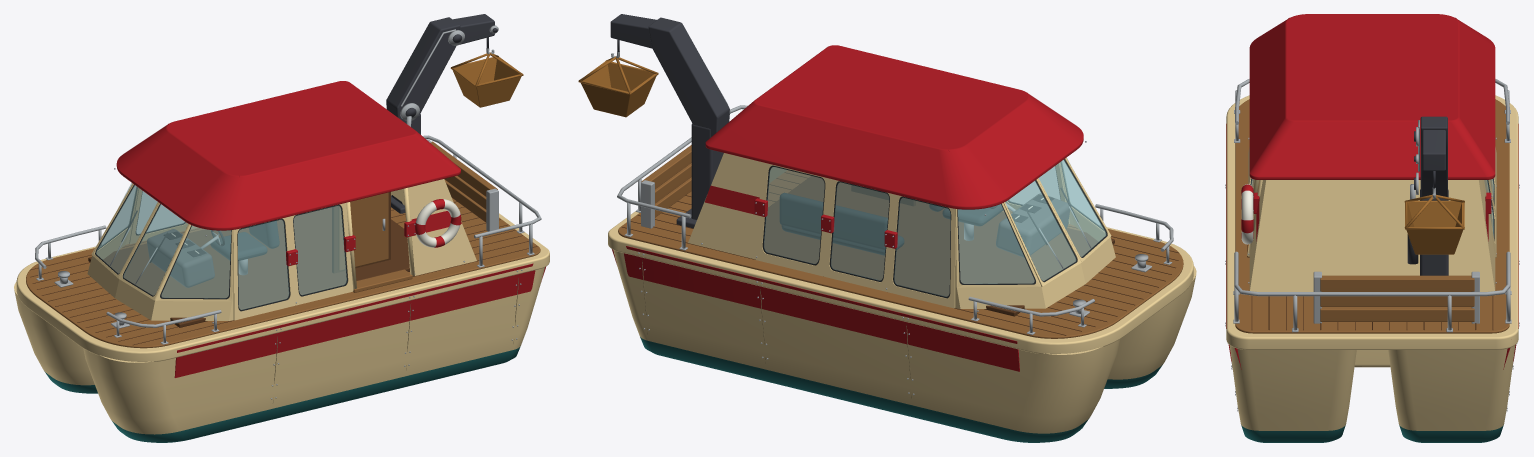
Rendered from boat-b-concept.glb.
The picture shows the model from 3 angles, left to right: view 1: azimuth 30°, elevation 25°; view 2: azimuth 150°, elevation 25°; view 3: azimuth 270°, elevation 25°; orthographic projection. The views are drawn at different scales.
Visible parts, largest first — view 1: red four-sided hip roof, port sculpted pontoon, inset teak deck, cabin floor, red upper hull belt, cream continuous deck coaming, forward side window transparent glass, rear side window transparent glass, panoramic windshield 0 transparent glass, starboard sculpted pontoon, crane broad articulated lifting arm, sloped aft cabin wall (+25 smaller); view 2: red four-sided hip roof, starboard sculpted pontoon, cabin floor, inset teak deck, red upper hull belt.001, cream continuous deck coaming, far cabin window transparent glass, forward side window transparent glass.001, rear side window transparent glass.001, crane broad articulated lifting arm, panoramic windshield 3 transparent glass, sloped aft cabin wall.001 (+25 smaller); view 3: red four-sided hip roof, aft cabin sloping bulkhead, port sculpted pontoon, starboard sculpted pontoon, inset teak deck, cream continuous deck coaming, stern cargo timber slat.002, open ochre work bucket, stern cargo timber slat, stern cargo timber slat.001, crane broad articulated lifting arm, crane horizontal upper jib (+12 smaller).
Part boxes in pixels (x1,y1,x2,y2): red four-sided hip roof: (116,81,460,227); port sculpted pontoon: (83,267,544,442); inset teak deck: (26,198,540,348); cabin floor: (88,207,409,327); red upper hull belt: (174,263,545,377); cream continuous deck coaming: (16,213,549,361); forward side window transparent glass: (238,220,289,309); rear side window transparent glass: (293,206,346,295); panoramic windshield 0 transparent glass: (161,225,231,298); starboard sculpted pontoon: (14,281,97,393); crane broad articulated lifting arm: (386,17,460,121); sloped aft cabin wall: (408,179,476,275); red four-sided hip roof: (705,45,1083,206); starboard sculpted pontoon: (613,250,1120,442); cabin floor: (764,176,1114,316); inset teak deck: (618,170,1183,338); red upper hull belt.001: (612,246,1019,371); cream continuous deck coaming: (608,211,1193,353); far cabin window transparent glass: (764,167,824,263); forward side window transparent glass.001: (894,197,950,296); rear side window transparent glass.001: (831,182,889,280); crane broad articulated lifting arm: (648,17,729,136); panoramic windshield 3 transparent glass: (958,204,1034,283); sloped aft cabin wall.001: (688,153,763,259); red four-sided hip roof: (1249,14,1495,176); aft cabin sloping bulkhead: (1250,180,1494,291); port sculpted pontoon: (1229,345,1356,442); starboard sculpted pontoon: (1388,345,1515,442); inset teak deck: (1235,99,1509,333); cream continuous deck coaming: (1226,95,1518,349); stern cargo timber slat.002: (1320,275,1474,291); open ochre work bucket: (1406,202,1463,254); stern cargo timber slat: (1320,307,1474,321); stern cargo timber slat.001: (1320,291,1474,306); crane broad articulated lifting arm: (1420,116,1447,196); crane horizontal upper jib: (1422,130,1445,170).
Size of the model in its own units: 5.53 by 3.02 by 2.48.
